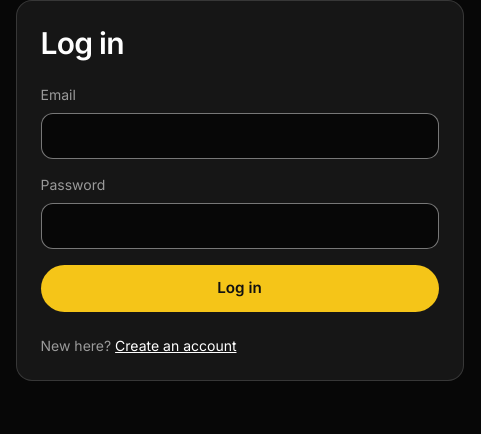
Test: Login › shows the server's generic error and keeps the form usable
Type "a@b.co" into the field labelled "Email" at {"x": 240, "y": 136}, box x1=40 y1=113 x2=438 y2=159
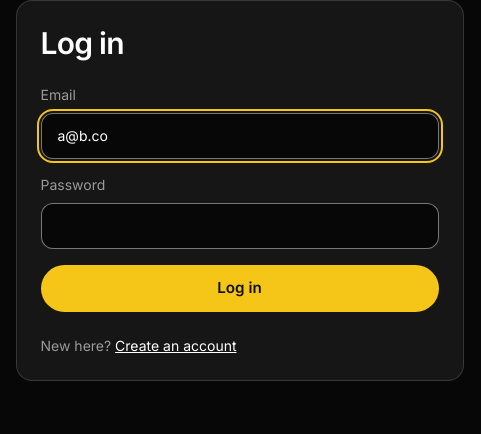
Type "whatever1" into the password field labelled "Password" at {"x": 240, "y": 226}, box x1=40 y1=203 x2=438 y2=249
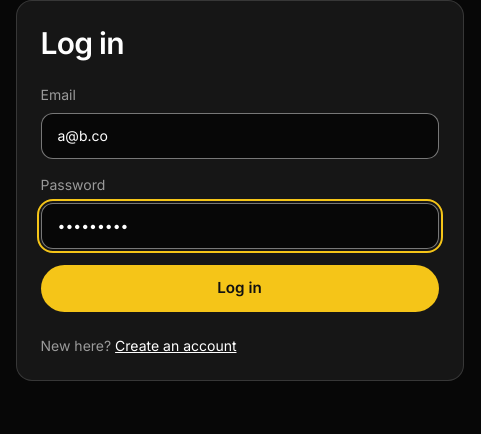
Click the button "Log in" at {"x": 240, "y": 288}, box x1=40 y1=265 x2=438 y2=312
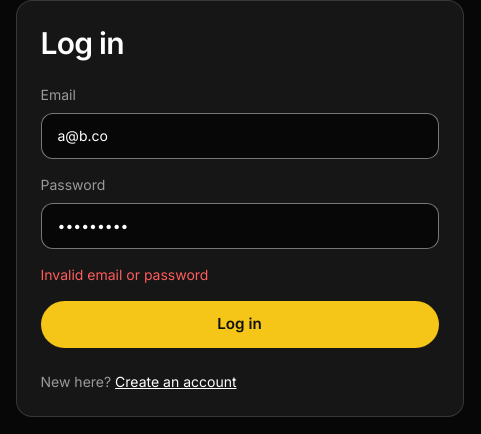
Expected: the button "Log in" is enabled, x1=40 y1=301 x2=438 y2=348
Result: the message reads "Invalid email or password" at x1=40 y1=266 x2=208 y2=283
